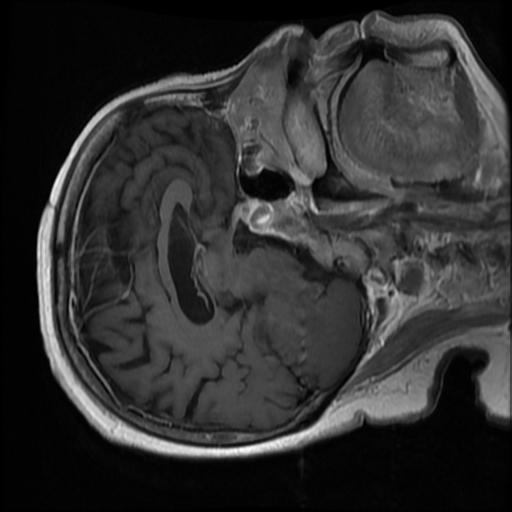pituitary tumour: (238, 199, 275, 232)
